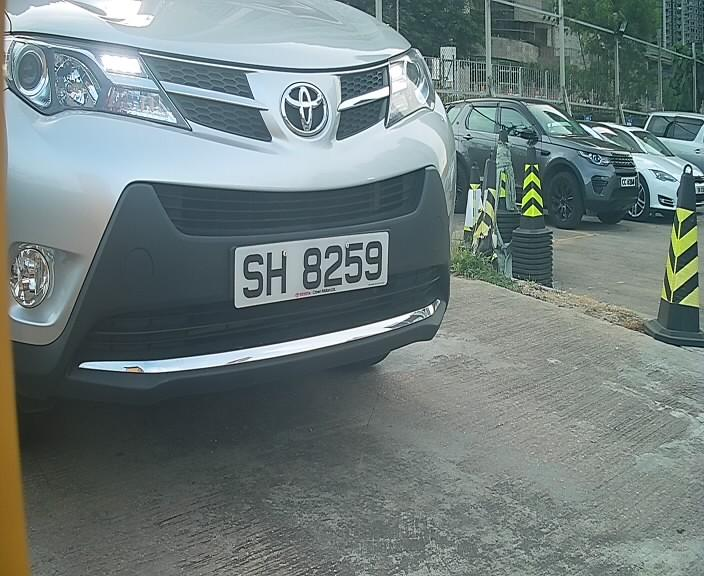License Plate: (227, 224, 397, 312)
